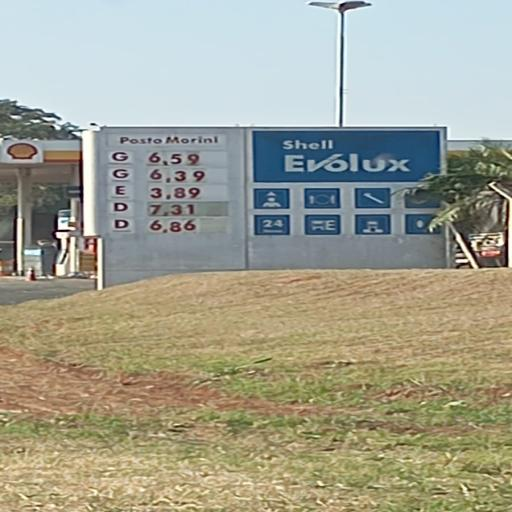ETANOL: (107, 186, 134, 200)
GASOLINA AD: (109, 151, 134, 165)
GASOLINA C: (107, 168, 136, 184)
S10: (107, 202, 135, 216)
S500: (109, 218, 135, 233)
placa: (105, 132, 241, 245)
preco: (145, 150, 209, 166), (146, 169, 210, 183), (144, 218, 200, 234), (146, 187, 206, 201), (146, 204, 200, 216)
